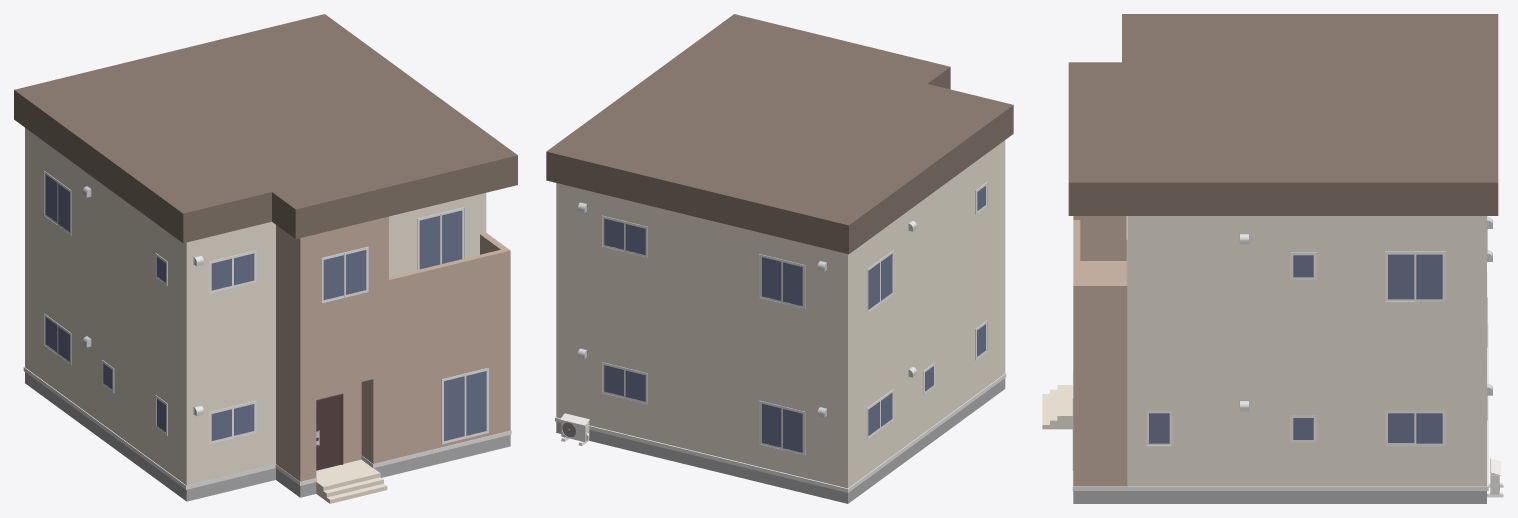
Rendered from MobHouse42.fbx.
The picture shows the model from 3 angles, left to right: view 1: azimuth 30°, elevation 25°; view 2: azimuth 150°, elevation 25°; view 3: azimuth 270°, elevation 25°; orthographic projection. The views are drawn at different scales.
Parts seen in each view (by area): view 1: Flat_half_house02.001; view 2: Flat_half_house02.001; view 3: Flat_half_house02.001.
Part boxes in pixels (x1=…): Flat_half_house02.001: x1=14, y1=14, x2=517, y2=503; Flat_half_house02.001: x1=546, y1=14, x2=1013, y2=503; Flat_half_house02.001: x1=1042, y1=14, x2=1503, y2=503.
Bounding box in the file's own units: 8.57 × 7.67 × 9.89.
